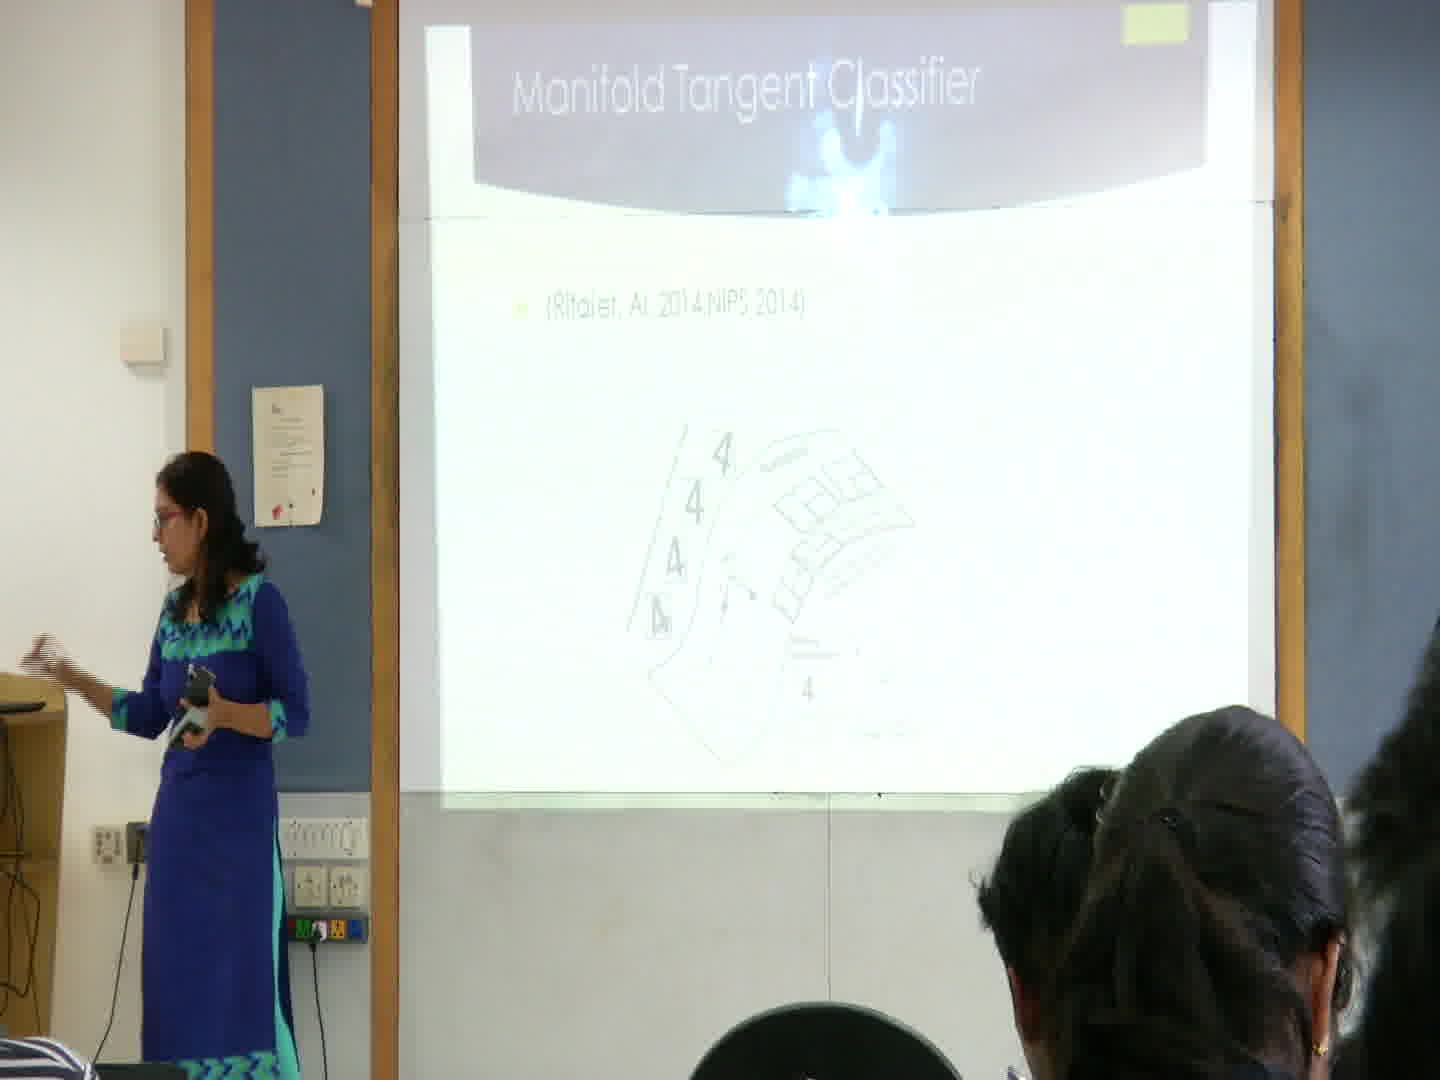slide: (427, 5, 1254, 812)
